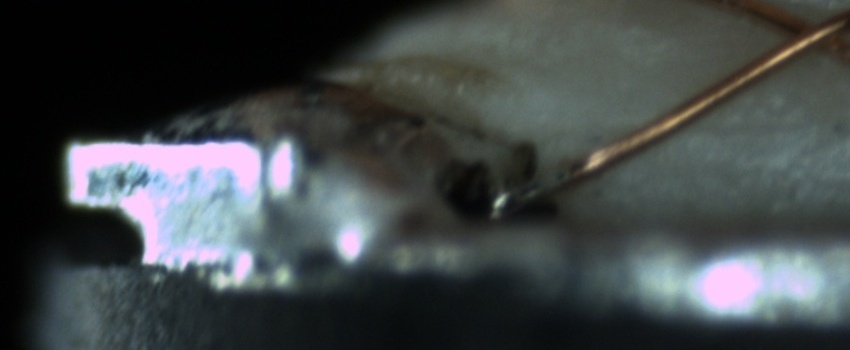CL: (759, 0, 848, 67)
DL: (674, 94, 849, 158)
TS: (489, 167, 573, 213)
